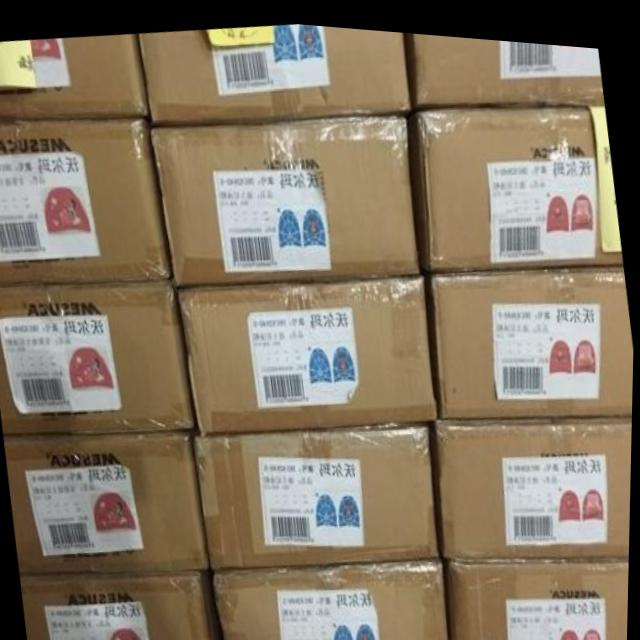box: (149, 111, 421, 283), (178, 271, 439, 431), (196, 417, 441, 568), (431, 256, 635, 411), (0, 278, 196, 434), (418, 102, 604, 264), (437, 406, 634, 555), (0, 118, 172, 285), (6, 433, 211, 570), (139, 19, 411, 118), (214, 553, 453, 640), (451, 546, 631, 640), (416, 27, 605, 99), (22, 572, 217, 640), (0, 32, 148, 120)
